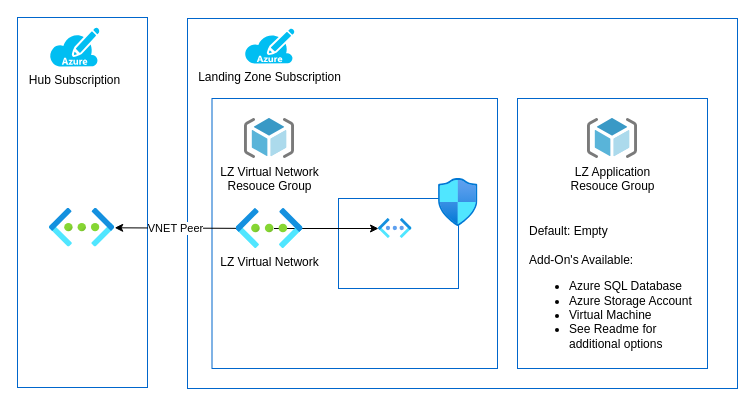
Image size: 755x406. Some labels were removed from this diagram. The shapes that lost their labels are listed below. From the top down, each one's centre as x and y in pixels, then its label:
the point at 458,202: NSG
the point at 81,227: Hub Virtual Network
the point at 395,228: Default Subnet
